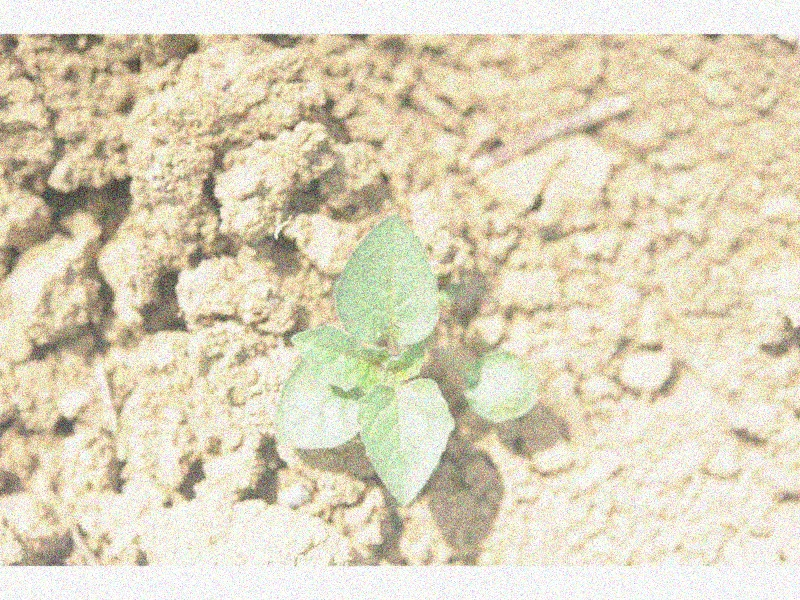nightshade: (276, 212, 536, 504)
